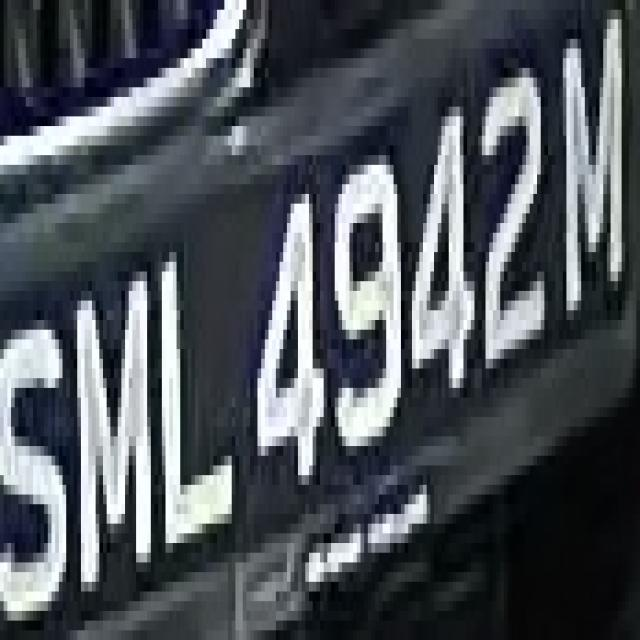2: (467, 48, 552, 388)
4: (394, 107, 489, 446), (235, 174, 328, 514)
9: (309, 126, 408, 466)
L: (154, 223, 246, 582)
M: (77, 243, 158, 592), (556, 39, 636, 339)
S: (4, 281, 70, 621)
